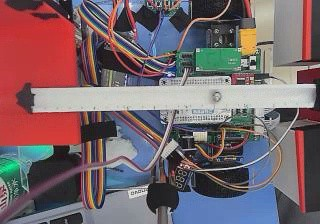ironball: (211, 90, 221, 102)
